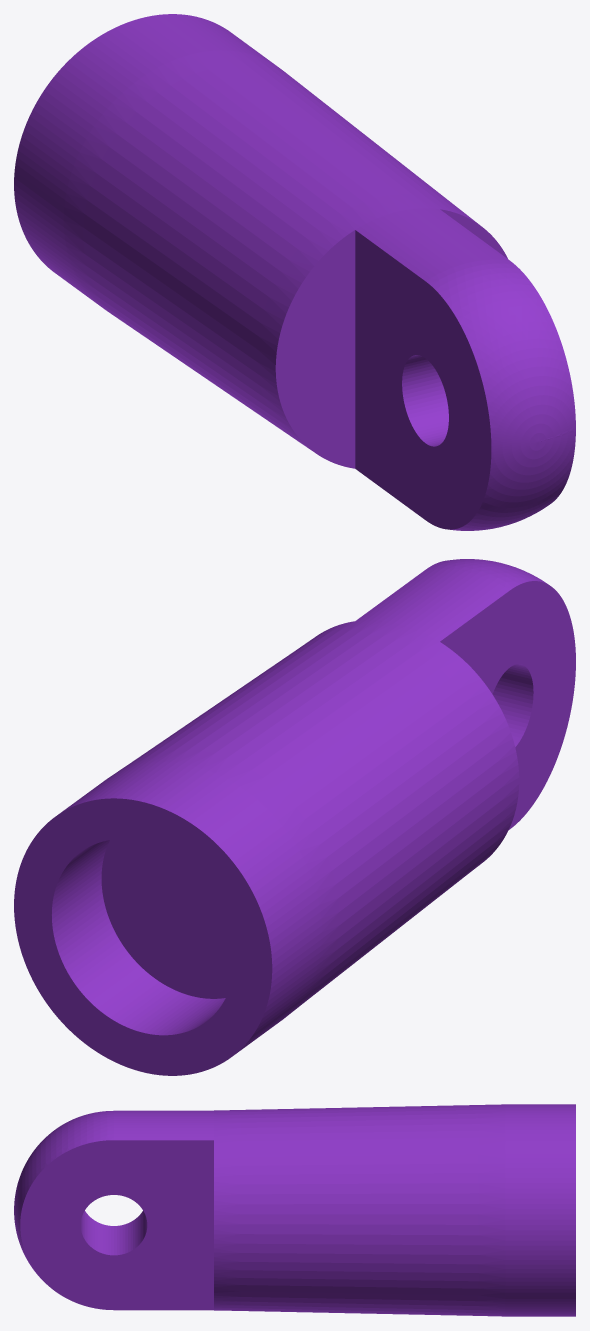
3 views of the same model, one above another, from view 1: azimuth 30°, elevation 25°; view 2: azimuth 150°, elevation 25°; view 3: azimuth 270°, elevation 25° (orthographic). The views are drawn at different scales.
Parts seen in each view (by area): view 1: node; view 2: node; view 3: node.
Boxes of the visible parts, bbox=[...] form: node: bbox=[14, 14, 575, 530]; node: bbox=[14, 559, 575, 1075]; node: bbox=[14, 1104, 575, 1316].
Bounding box in the file's own units: 0.0729 × 0.0728 × 0.193.
